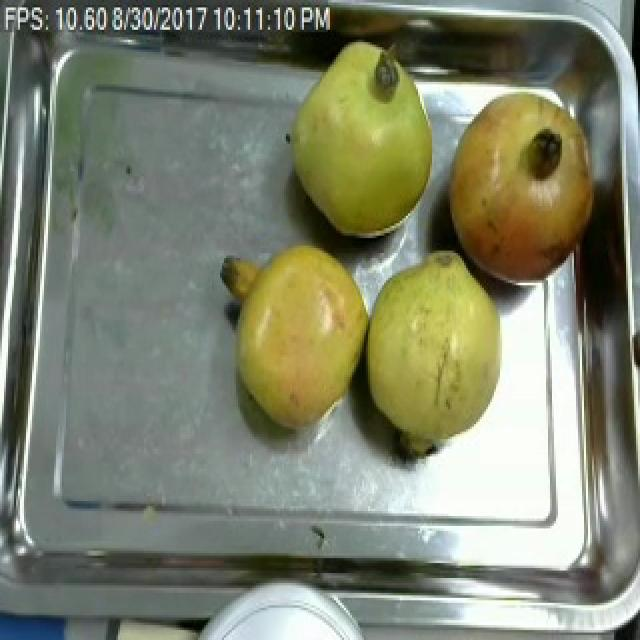fruit: (356, 241, 510, 466), (278, 34, 440, 246), (442, 82, 600, 295), (218, 233, 376, 444)
